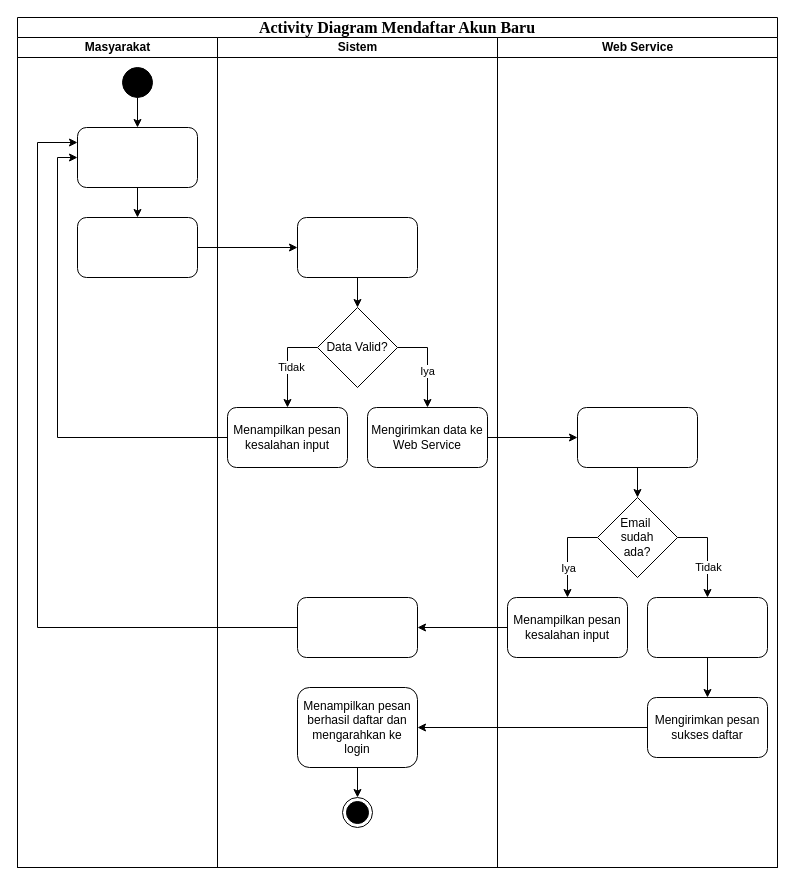
The diagram is 795 pixels wide and 885 high, and some of its shapes have lost their labels. Each missing label, with the box of its shape:
Memvalidasi Kelengkapan Data: (296, 216, 418, 278)
Memverifikasi keunikan email dan keuatan kata sandi: (576, 406, 698, 468)
Menampilkan pesan gagal pendaftaran: (296, 596, 418, 658)
Menekan Tombol Daftar: (76, 216, 198, 278)
Mengirimkan data ke Database: (646, 596, 768, 658)
Mengisi formulir pendaftaran: (76, 126, 198, 188)
